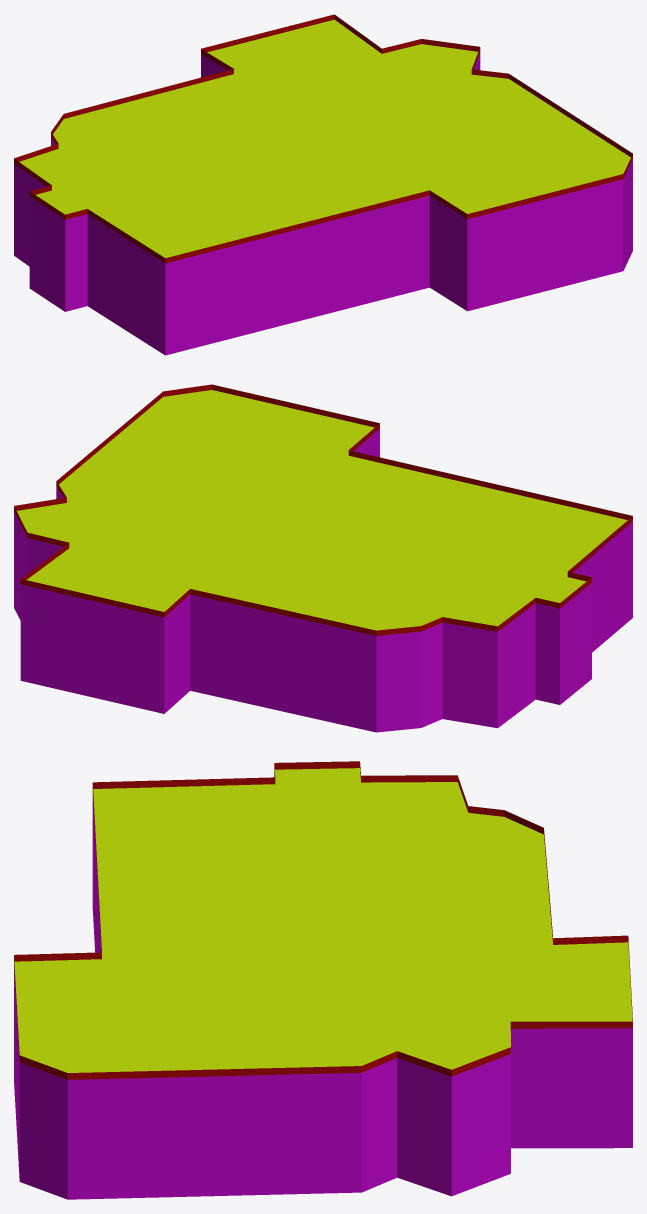
The model's file is ces_40.glb.
The picture shows the model from 3 angles, top to bottom: view 1: azimuth 30°, elevation 25°; view 2: azimuth 150°, elevation 25°; view 3: azimuth 270°, elevation 25°; orthographic projection. The views are drawn at different scales.
Visible parts, largest first — view 1: ces_40; view 2: ces_40; view 3: ces_40.
Boxes of the visible parts, <box> form: ces_40: <box>14,14,632,355</box>; ces_40: <box>14,384,632,732</box>; ces_40: <box>14,761,632,1199</box>.
Size of the model in its own units: 34.46 by 6.52 by 28.91.
